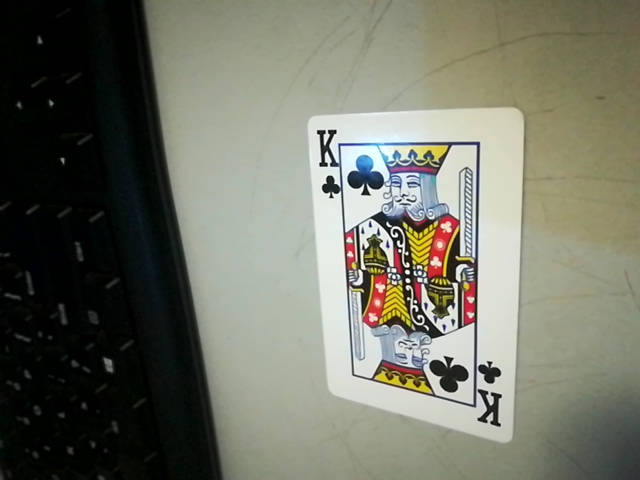mh k: (308, 126, 349, 197), (473, 360, 513, 432)
